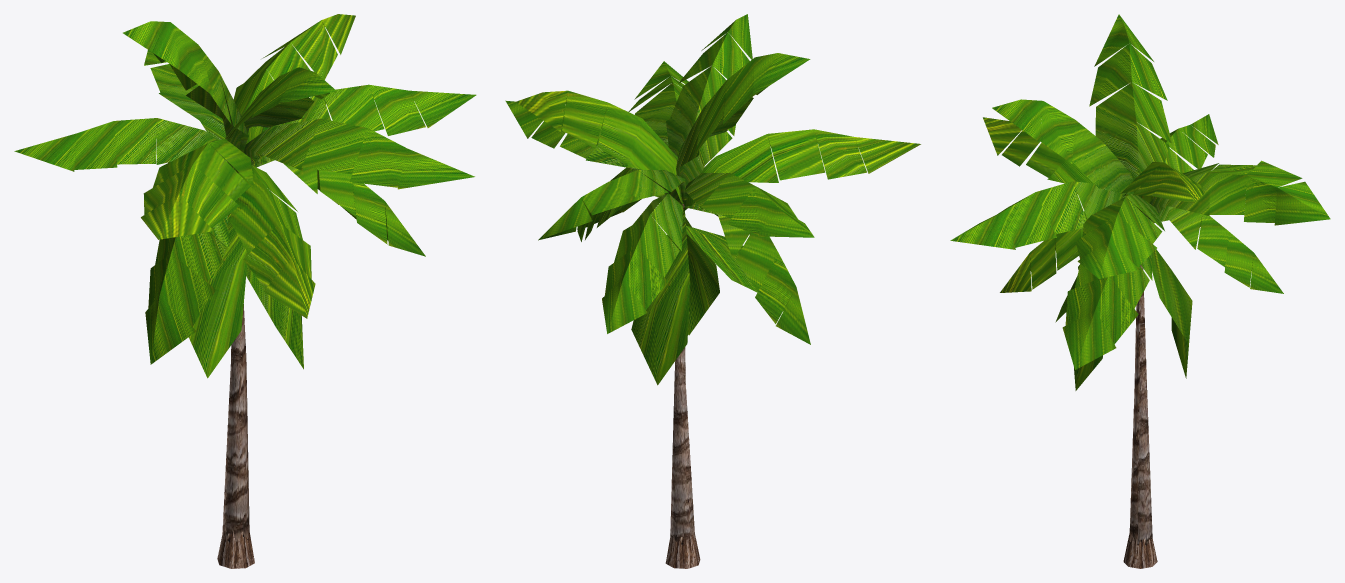
The model's file is palmTree.obj.
The picture shows the model from 3 angles, left to right: view 1: azimuth 30°, elevation 25°; view 2: azimuth 150°, elevation 25°; view 3: azimuth 270°, elevation 25°; orthographic projection. The views are drawn at different scales.
Visible parts, largest first — view 1: cook_palm_tree; view 2: cook_palm_tree; view 3: cook_palm_tree.
Part boxes in pixels (x1=…): cook_palm_tree: x1=14, y1=14, x2=476, y2=568; cook_palm_tree: x1=505, y1=14, x2=920, y2=568; cook_palm_tree: x1=950, y1=14, x2=1330, y2=568.
Bounding box in the file's own units: 5.26 × 7.16 × 4.99.
